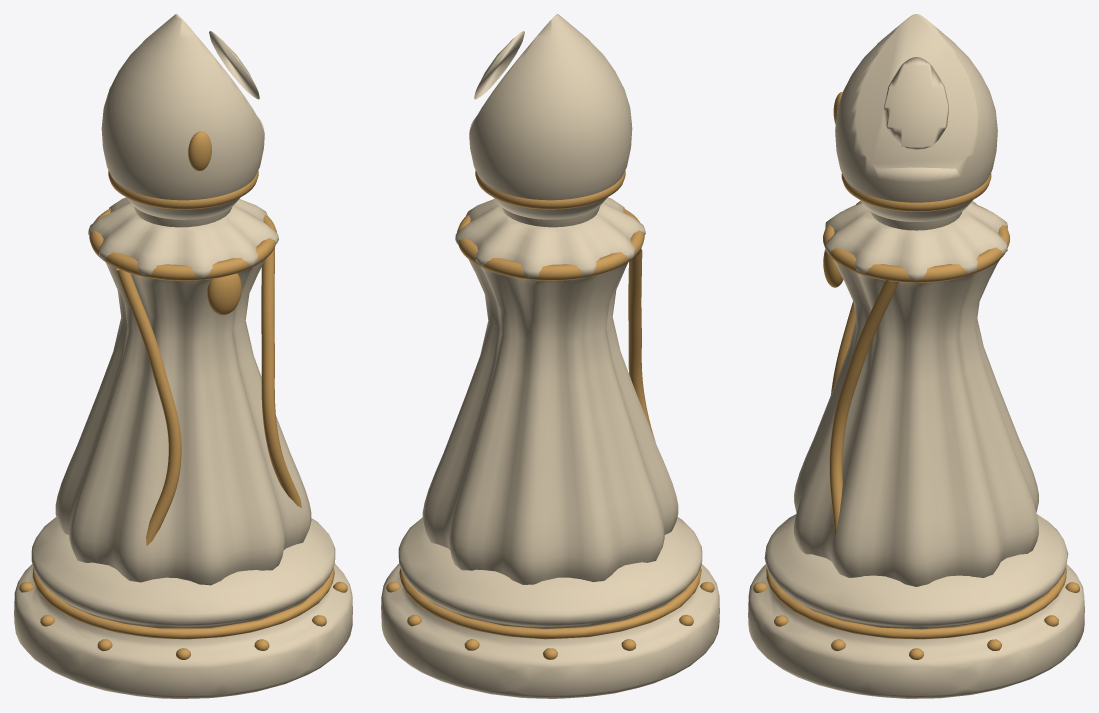
The model's file is bishop.glb.
3 renders of one model, left to right at view 1: azimuth 30°, elevation 25°; view 2: azimuth 150°, elevation 25°; view 3: azimuth 270°, elevation 25°, orthographic.
Parts seen in each view (by area): view 1: PIECE_Bishop_Sculpture, PIECE_Bishop_Base; view 2: PIECE_Bishop_Sculpture, PIECE_Bishop_Base; view 3: PIECE_Bishop_Sculpture, PIECE_Bishop_Base.
Boxes of the visible parts, x1=… form: PIECE_Bishop_Sculpture: x1=55, y1=14, x2=311, y2=585; PIECE_Bishop_Base: x1=14, y1=517, x2=352, y2=698; PIECE_Bishop_Sculpture: x1=422, y1=14, x2=678, y2=584; PIECE_Bishop_Base: x1=381, y1=517, x2=719, y2=698; PIECE_Bishop_Sculpture: x1=794, y1=14, x2=1038, y2=586; PIECE_Bishop_Base: x1=748, y1=514, x2=1084, y2=698.
Size of the model in its own units: 0.719 by 1.45 by 0.719.
